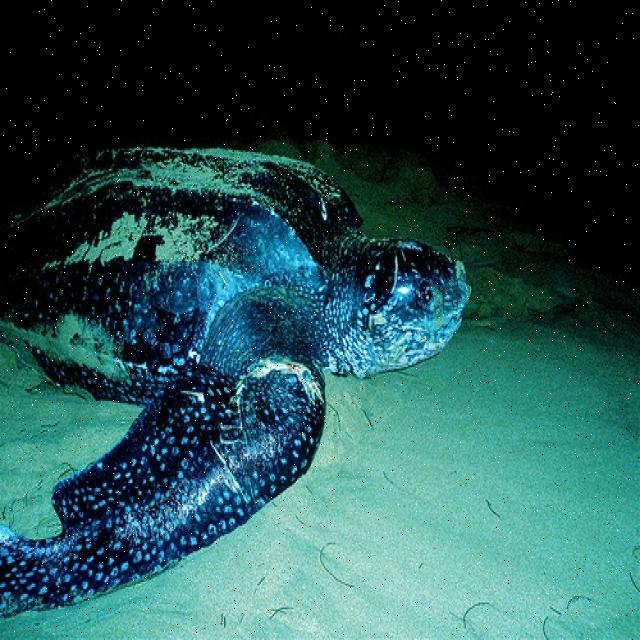fish: (0, 146, 473, 621)
